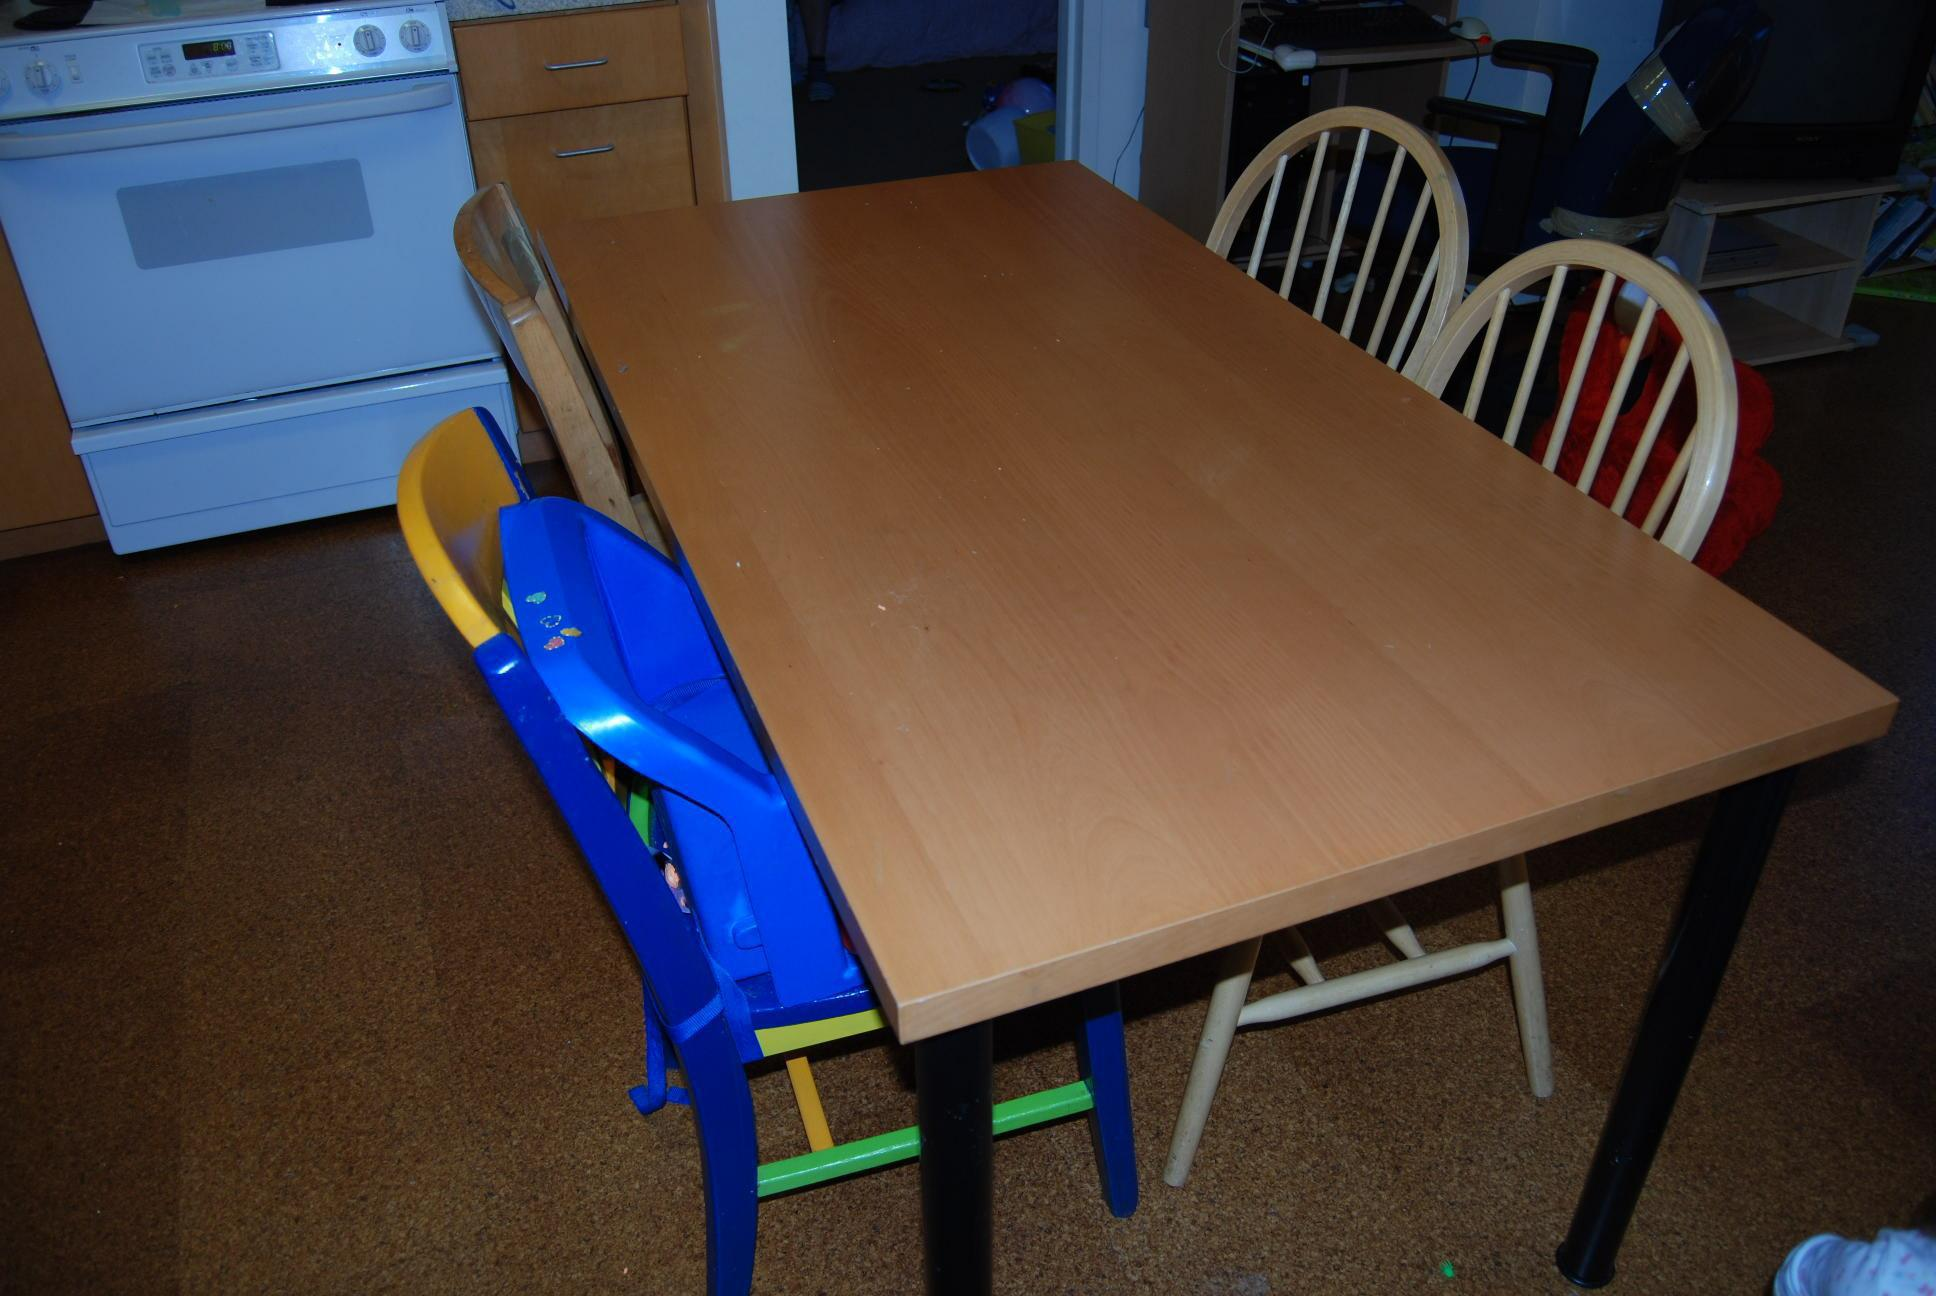Electrodomestico: (7, 46, 526, 524)
